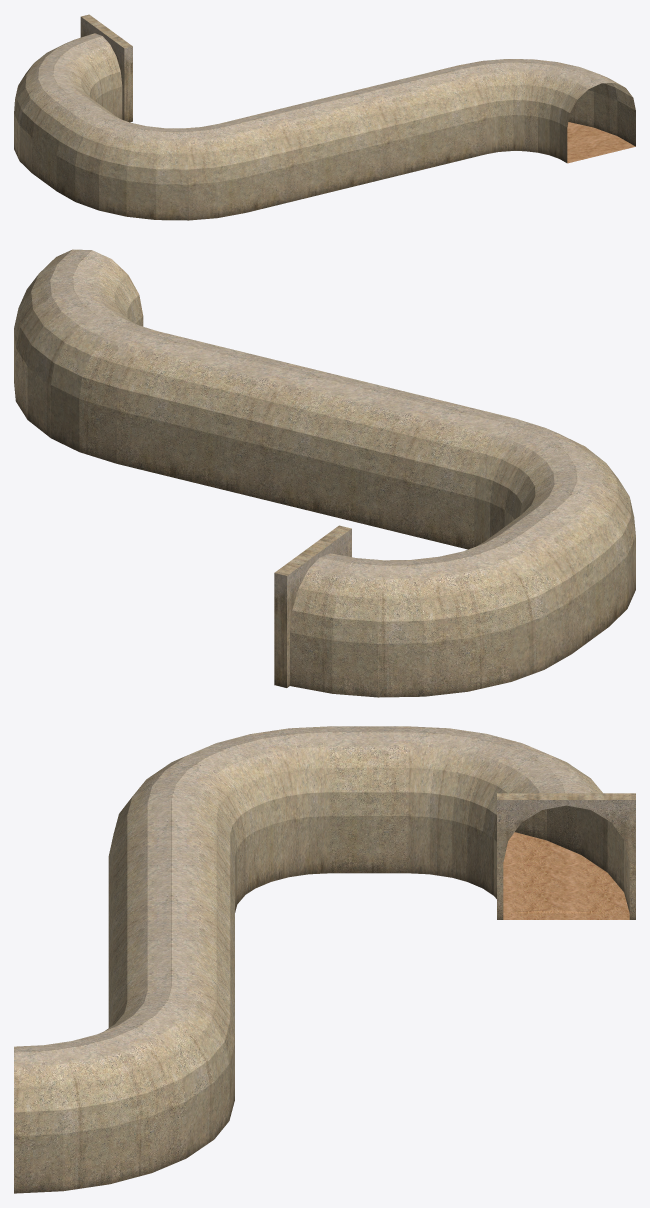
The model's file is thm_tato_jabbas_palace_r18_hall8_mesh_r18.fbx.
The picture shows the model from 3 angles, top to bottom: view 1: azimuth 30°, elevation 25°; view 2: azimuth 150°, elevation 25°; view 3: azimuth 270°, elevation 25°; orthographic projection. The views are drawn at different scales.
Visible parts, largest first — view 1: mesh_node; view 2: mesh_node; view 3: mesh_node.
Part boxes in pixels (<box>): mesh_node: <box>14,14,635,220</box>; mesh_node: <box>14,249,635,697</box>; mesh_node: <box>14,726,635,1193</box>.
Bounding box in the file's own units: 28 × 4.2 × 19.7.
